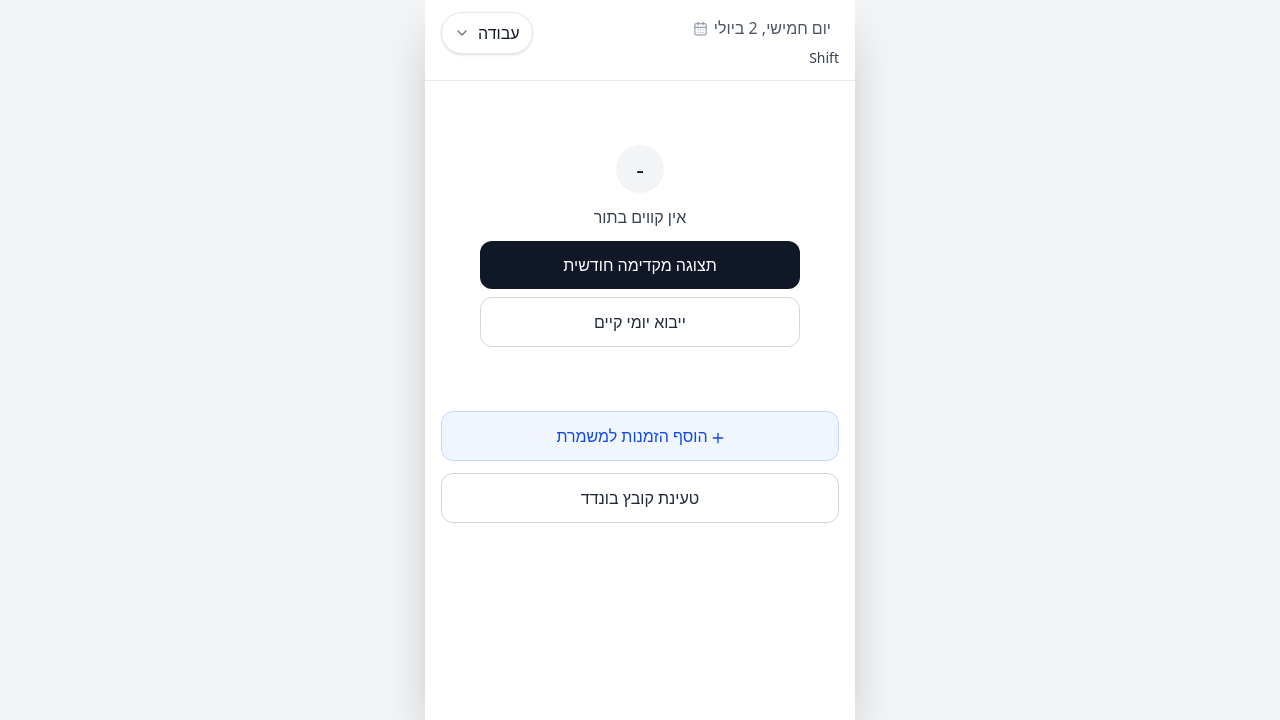
Scenario: ManualOperatorPage queue import placement › opens daily import sheet from empty queue CTA
Click the button "ייבוא יומי קיים" at (640, 322), box [480,297,800,347]
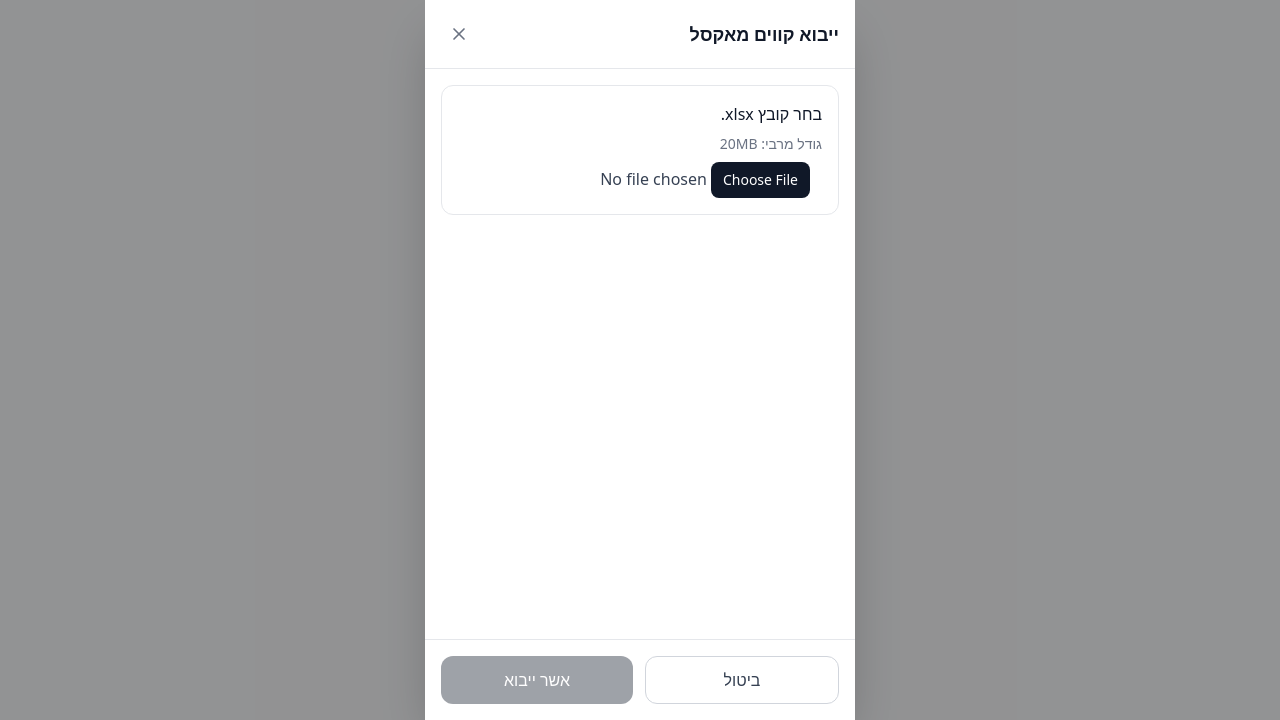
Now the heading "ייבוא קווים מאקסל" is shown, box [690,20,839,48]
